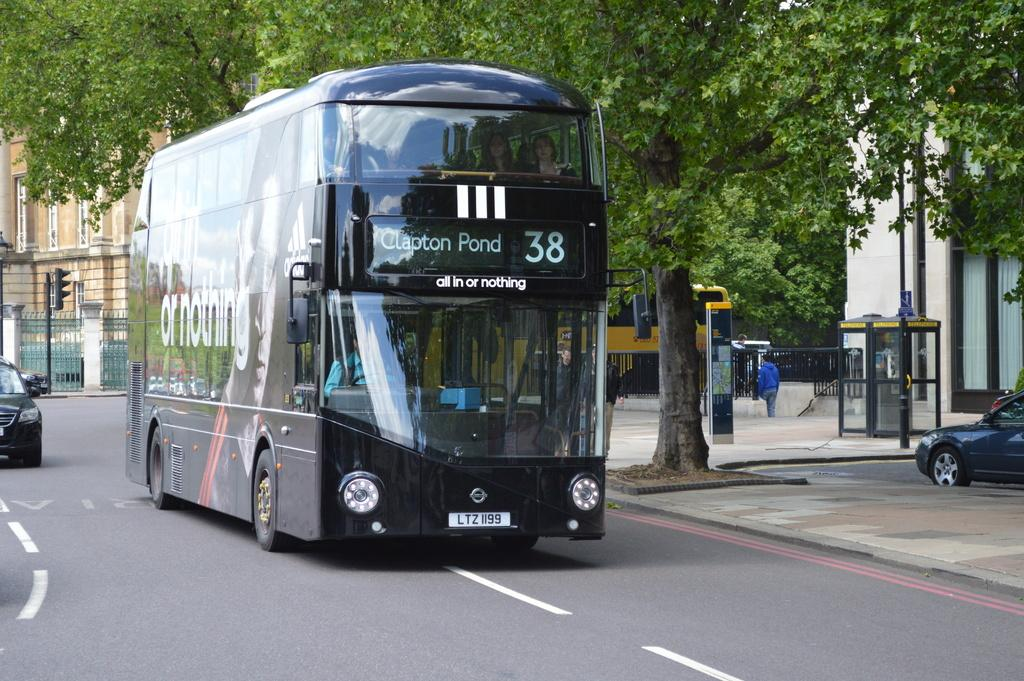vehicle: (124, 59, 652, 554), (915, 391, 1024, 487), (1, 355, 42, 467)
